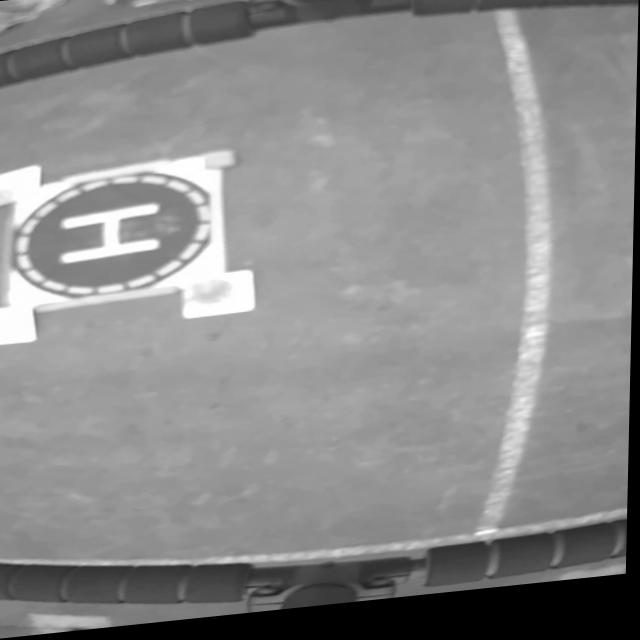Helipad: (60, 203, 166, 265)
